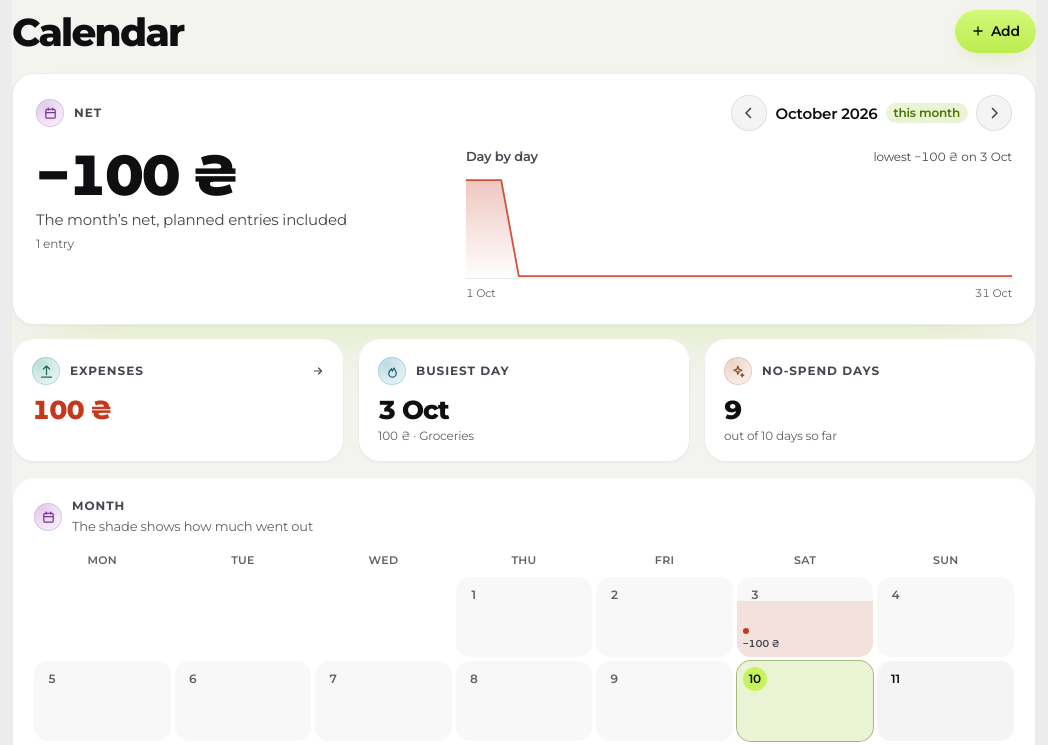
it: CalendarPage › opens on today and shows a picked day's entries
The image size is (1048, 745).
Click the button named "3 Oct 2026 · 1 entry" at (805,617), box [737, 577, 873, 657]
(page scrolled)
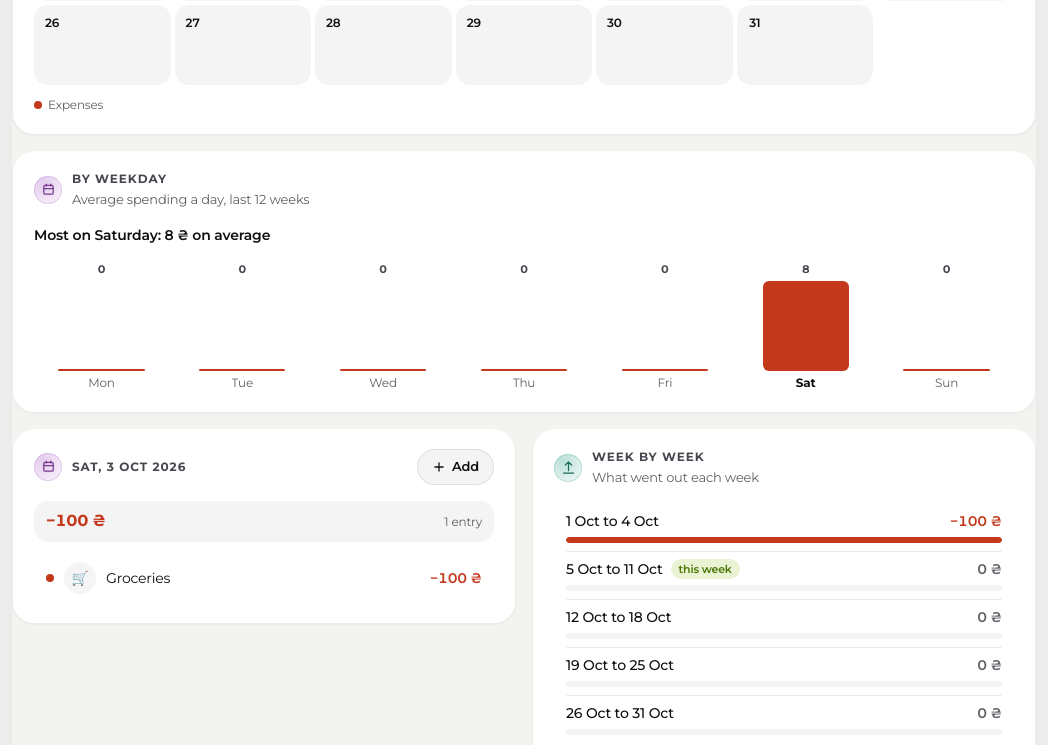
Now the button "🛒 Groceries −100 ₴" is shown, box [34, 554, 494, 602]
